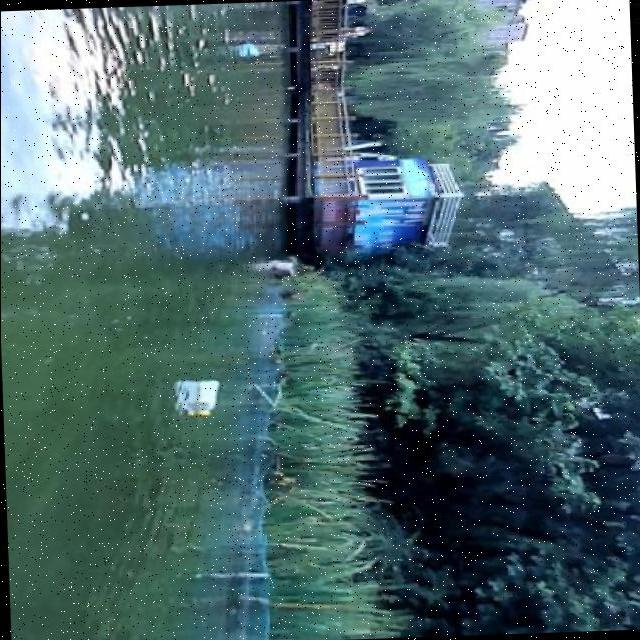Bottle: (188, 374, 228, 422)
